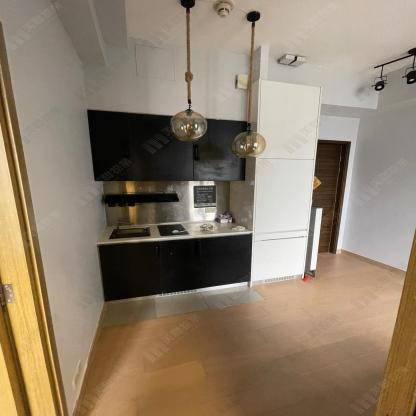Cupboard: (87, 109, 247, 182), (97, 234, 251, 307)
Exhaust Hood: (100, 193, 180, 208)
Faucet: (112, 220, 134, 228)
Fridge: (228, 79, 323, 288)
Sink: (107, 226, 150, 239)
Stove: (157, 224, 188, 236)
